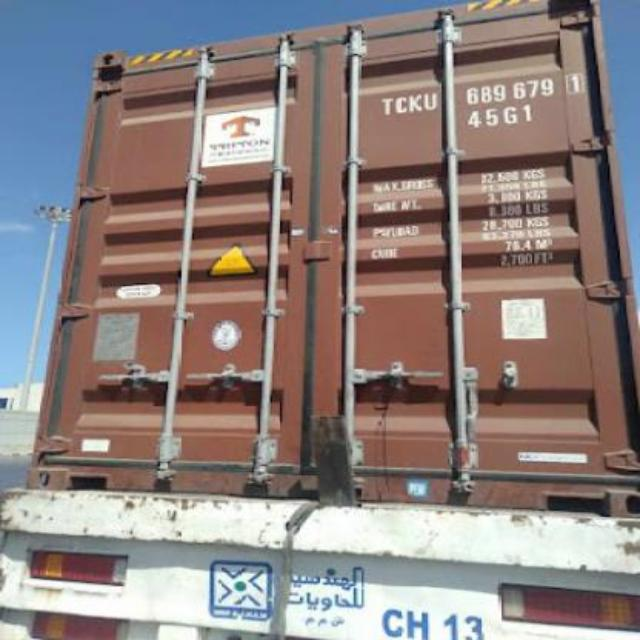1: (564, 65, 584, 98)
6: (508, 78, 526, 100), (462, 84, 478, 106)
7: (524, 76, 538, 100)
8: (478, 84, 492, 105)
9: (538, 74, 556, 100), (492, 82, 506, 102)
C: (394, 90, 406, 120)
K: (404, 87, 422, 119)
T: (378, 89, 394, 121)
U: (422, 86, 438, 116)
